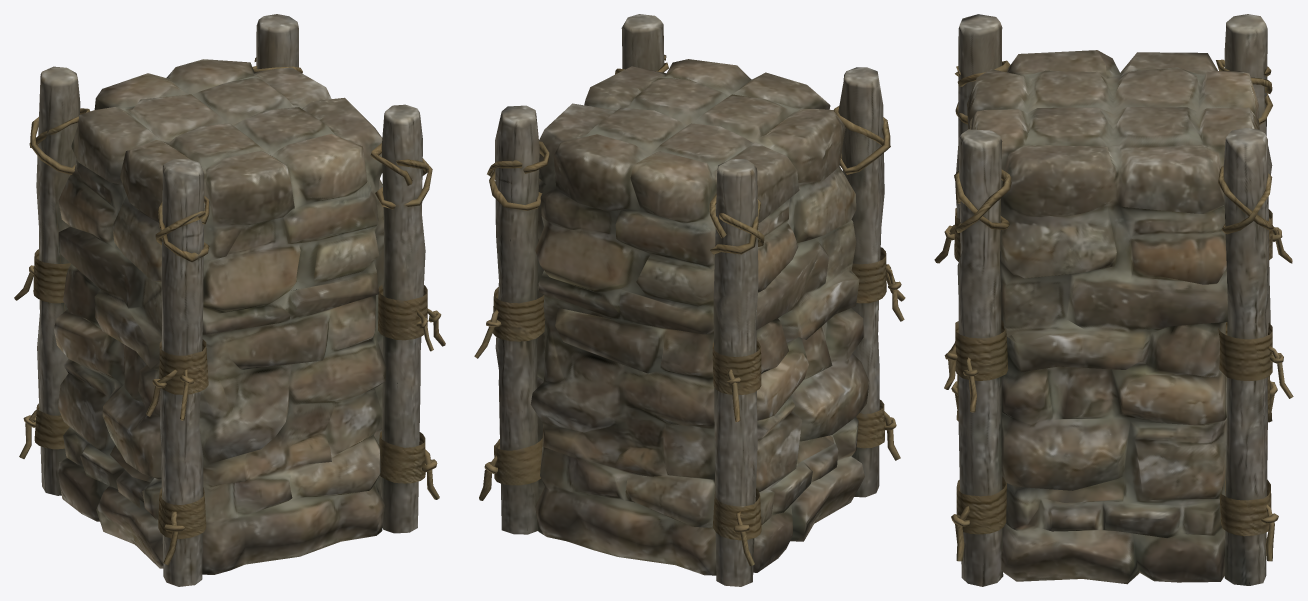
Rendered from chimney_section.fbx.
3 views of the same model, side by side, from view 1: azimuth 30°, elevation 25°; view 2: azimuth 150°, elevation 25°; view 3: azimuth 270°, elevation 25° (orthographic). The views are drawn at different scales.
Parts seen in each view (by area): view 1: geometry_0; view 2: geometry_0; view 3: geometry_0.
Boxes of the visible parts, x1=… form: geometry_0: x1=14, y1=14, x2=445, y2=586; geometry_0: x1=474, y1=14, x2=905, y2=586; geometry_0: x1=934, y1=14, x2=1293, y2=586.
Size of the model in its own units: 71.58 by 95.17 by 69.87.
1 material, 1 textured.
